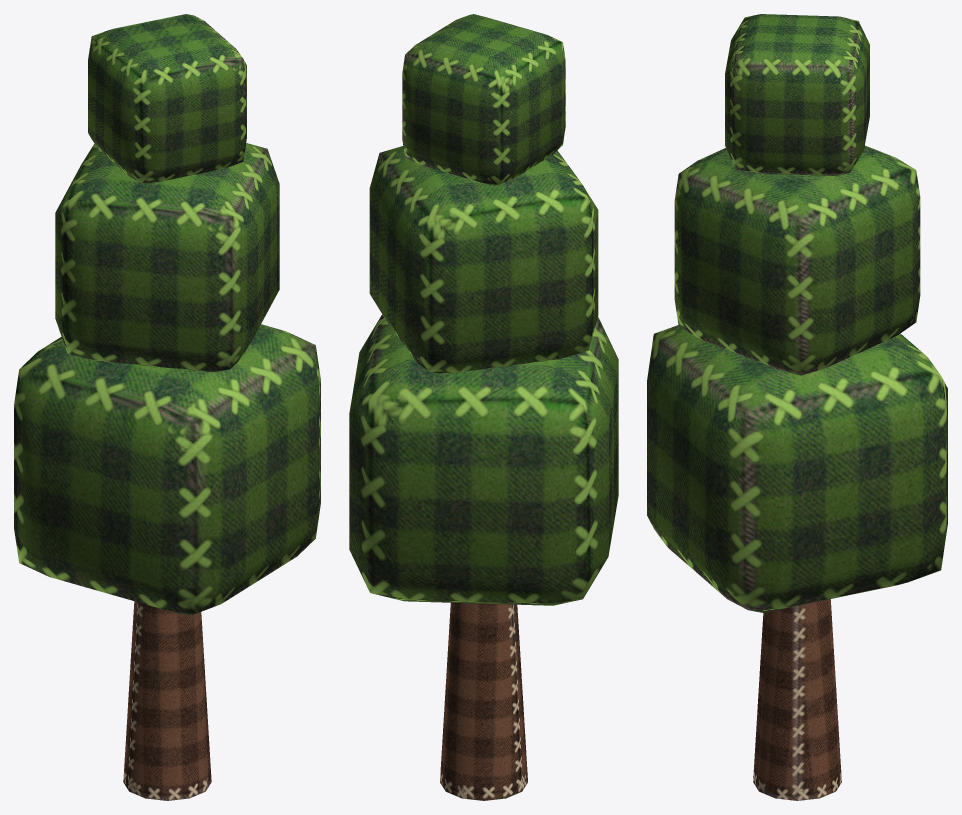
The model's file is lpb_cs_tree4.fbx.
3 views of the same model, side by side, from view 1: azimuth 30°, elevation 25°; view 2: azimuth 150°, elevation 25°; view 3: azimuth 270°, elevation 25° (orthographic).
Visible parts, largest first — view 1: lpb_cs_tree4; view 2: lpb_cs_tree4; view 3: lpb_cs_tree4.
Boxes of the visible parts, x1=… form: lpb_cs_tree4: x1=14, y1=14, x2=320, y2=800; lpb_cs_tree4: x1=349, y1=14, x2=618, y2=800; lpb_cs_tree4: x1=647, y1=14, x2=947, y2=800.
Size of the model in its own units: 71.27 by 196 by 71.27.
